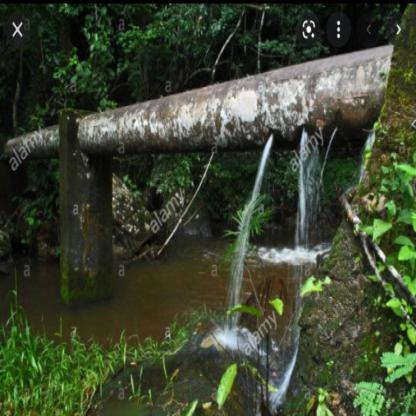burst: (260, 117, 326, 160)
